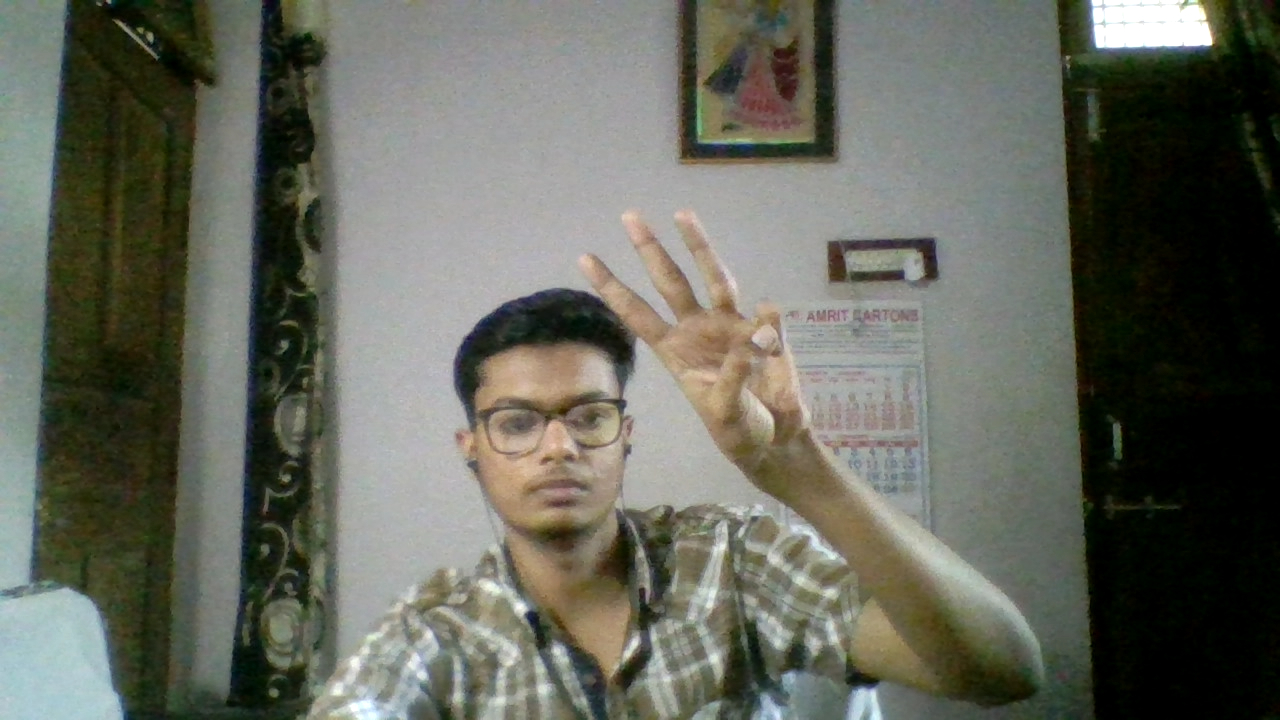three: (576, 170, 819, 532)
